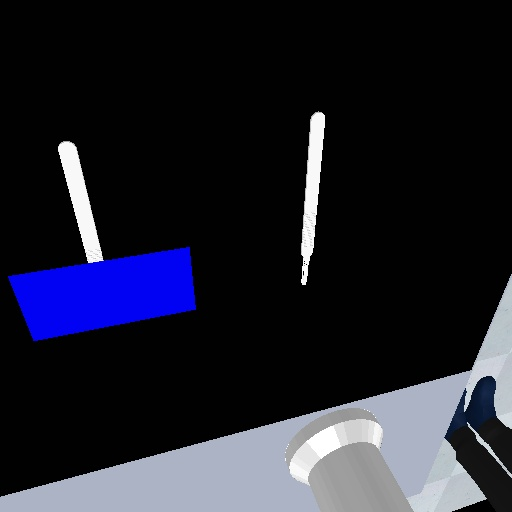bisturi: (56, 137, 106, 264), (298, 105, 328, 290)
